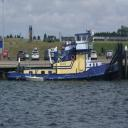tugboat: (6, 29, 125, 87)
